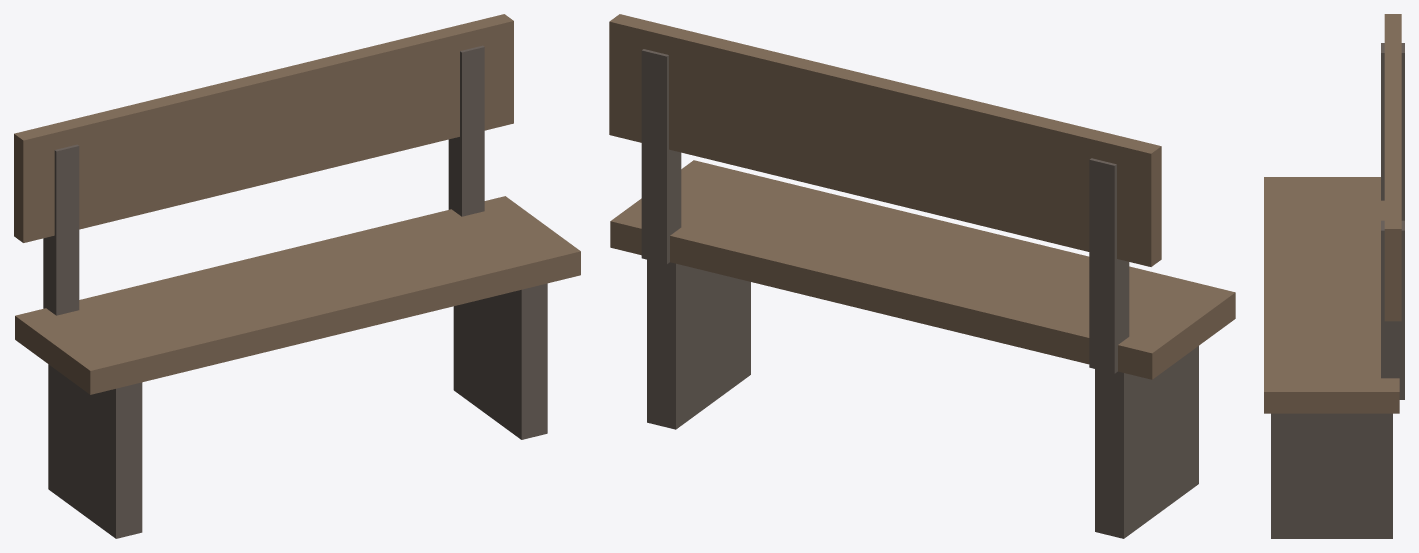
File: bench.glb
3 views of the same model, side by side, from view 1: azimuth 30°, elevation 25°; view 2: azimuth 150°, elevation 25°; view 3: azimuth 270°, elevation 25° (orthographic). The views are drawn at different scales.
Parts seen in each view (by area): view 1: bench; view 2: bench; view 3: bench.
Part boxes in pixels (bbox=[...]): bench: bbox=[14, 14, 580, 538]; bench: bbox=[609, 14, 1235, 538]; bench: bbox=[1264, 14, 1404, 538].
Size of the model in its own units: 1.5 by 1.05 by 0.415.
